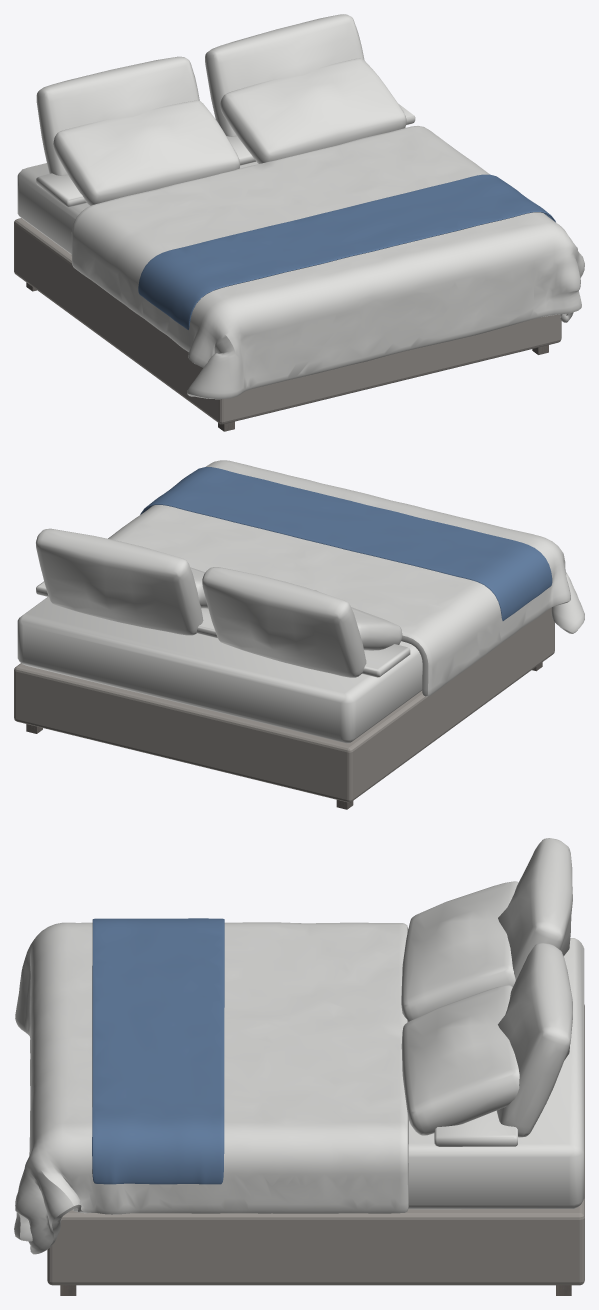
The model's file is hotel-king-bed-lite.glb.
3 views of the same model, one above another, from view 1: azimuth 30°, elevation 25°; view 2: azimuth 150°, elevation 25°; view 3: azimuth 270°, elevation 25° (orthographic). The views are drawn at different scales.
Parts seen in each view (by area): view 1: duvet, scarf, base, pillow2, pillow3, pillow0, pillow1, mattress, fold; view 2: base, duvet, mattress, scarf, pillow1, pillow0, fold, pillow2; view 3: duvet, base, scarf, mattress, pillow3, pillow2, pillow1, pillow0, fold.
Boxes of the visible parts, x1,y1,x2,y2 form: duvet: [71, 126, 584, 399]; scarf: [138, 174, 555, 329]; base: [14, 218, 561, 424]; pillow2: [53, 100, 240, 205]; pillow3: [220, 58, 406, 163]; pillow0: [36, 56, 199, 175]; pillow1: [205, 14, 364, 136]; mattress: [17, 127, 405, 254]; fold: [36, 104, 415, 207]; base: [14, 607, 554, 802]; duvet: [108, 460, 584, 696]; mattress: [17, 597, 422, 743]; scarf: [140, 467, 552, 620]; pillow1: [36, 528, 203, 635]; pillow0: [202, 567, 366, 677]; fold: [36, 581, 410, 677]; pillow2: [314, 590, 402, 650]; duvet: [14, 922, 408, 1254]; base: [47, 1004, 584, 1285]; scarf: [92, 918, 224, 1184]; mattress: [408, 938, 584, 1209]; pillow3: [401, 985, 519, 1135]; pillow2: [401, 881, 518, 1021]; pillow1: [496, 943, 572, 1137]; pillow0: [498, 838, 572, 980]; fold: [434, 1110, 517, 1146].
Bounding box in the file's own units: 2.24 × 1.1 × 2.16.
Materials: 4 (1 with a texture image).
